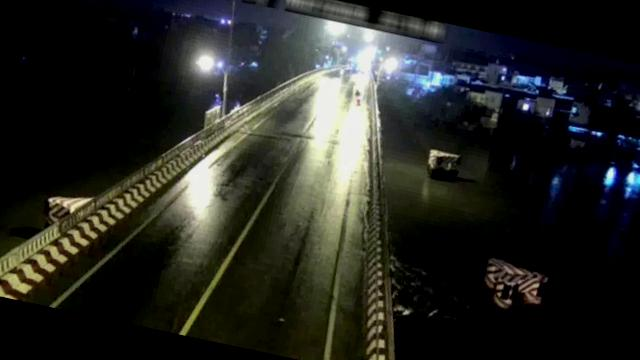Bike: (351, 84, 364, 108)
